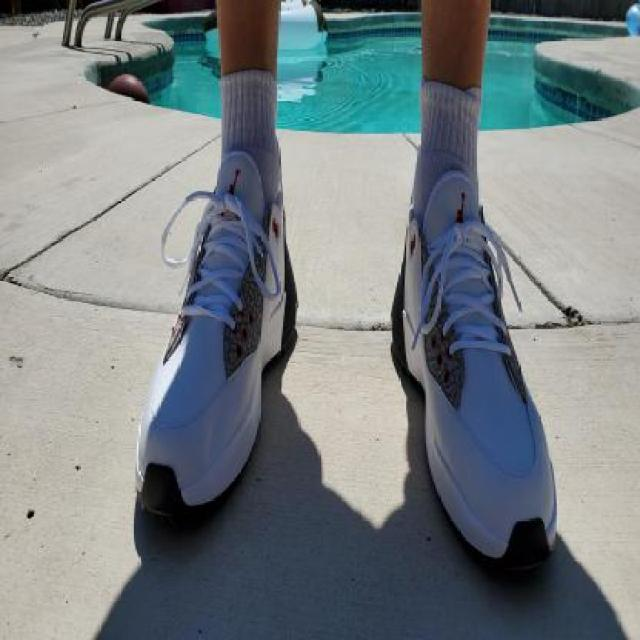shoe: (388, 135, 560, 579), (135, 134, 299, 523)
